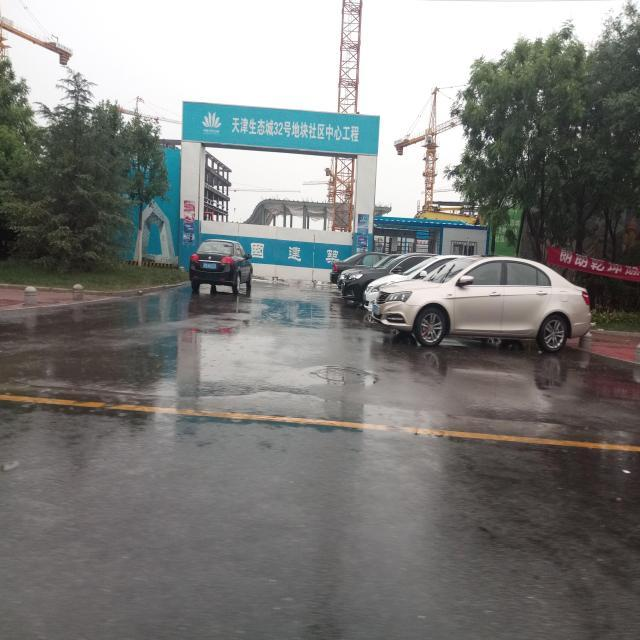car: (366, 258, 592, 354), (188, 238, 252, 298), (341, 266, 363, 306)
